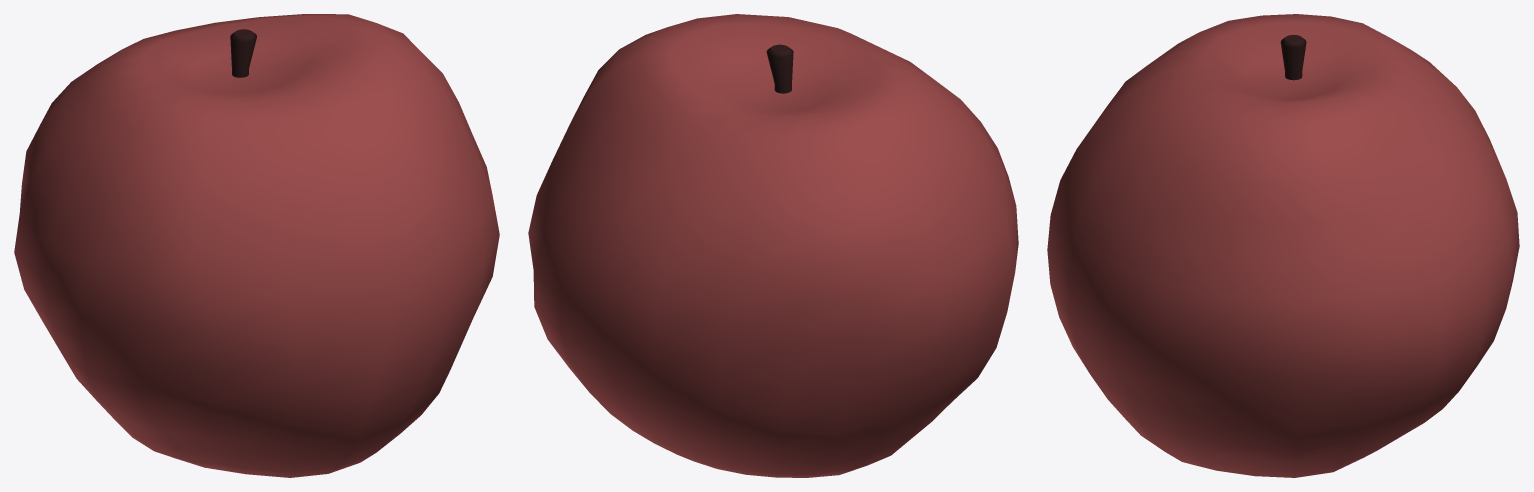
The model's file is riringo.fbx.
3 renders of one model, left to right at view 1: azimuth 30°, elevation 25°; view 2: azimuth 150°, elevation 25°; view 3: azimuth 270°, elevation 25°, orthographic. The views are drawn at different scales.
Visible parts, largest first — view 1: pCylinder2; view 2: pCylinder2; view 3: pCylinder2.
Boxes of the visible parts, x1,y1,x2,y2 form: pCylinder2: [14, 14, 499, 477]; pCylinder2: [528, 14, 1018, 477]; pCylinder2: [1047, 14, 1519, 477].
Bounding box in the file's own units: 6.44 × 5.82 × 6.29.
